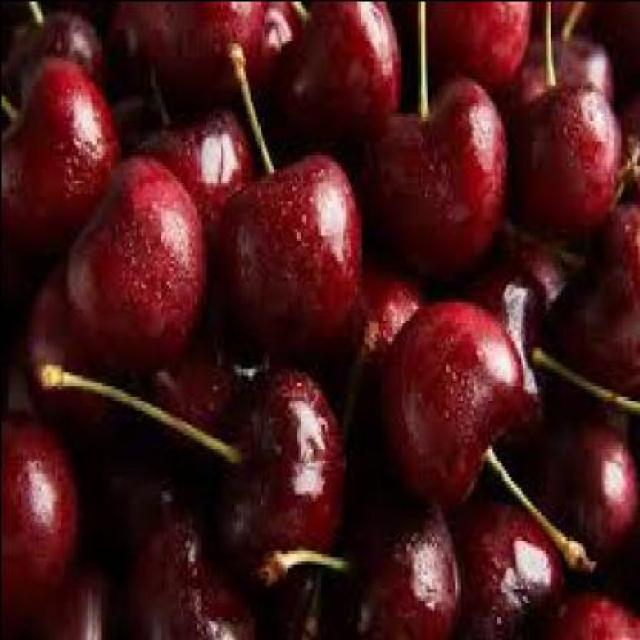BIODEGRADABLE: (370, 297, 528, 508), (217, 143, 366, 360), (67, 146, 210, 371), (83, 458, 254, 637), (212, 364, 352, 576), (367, 73, 510, 270), (2, 56, 116, 252), (260, 1, 406, 154), (538, 188, 639, 400), (522, 410, 638, 576), (2, 406, 84, 619), (100, 1, 274, 96), (512, 67, 623, 210), (123, 91, 245, 214), (347, 507, 462, 636), (136, 328, 244, 458), (459, 501, 563, 636), (454, 214, 568, 318), (30, 262, 110, 406), (400, 2, 531, 82), (23, 559, 119, 636), (351, 262, 422, 361), (506, 32, 616, 91), (536, 588, 638, 638), (622, 91, 638, 180)
